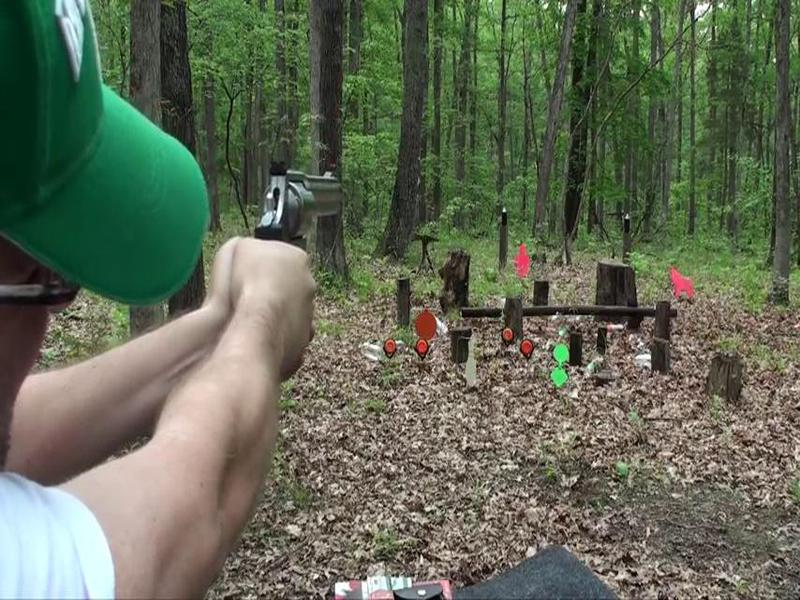Revolver: (247, 147, 347, 260)
